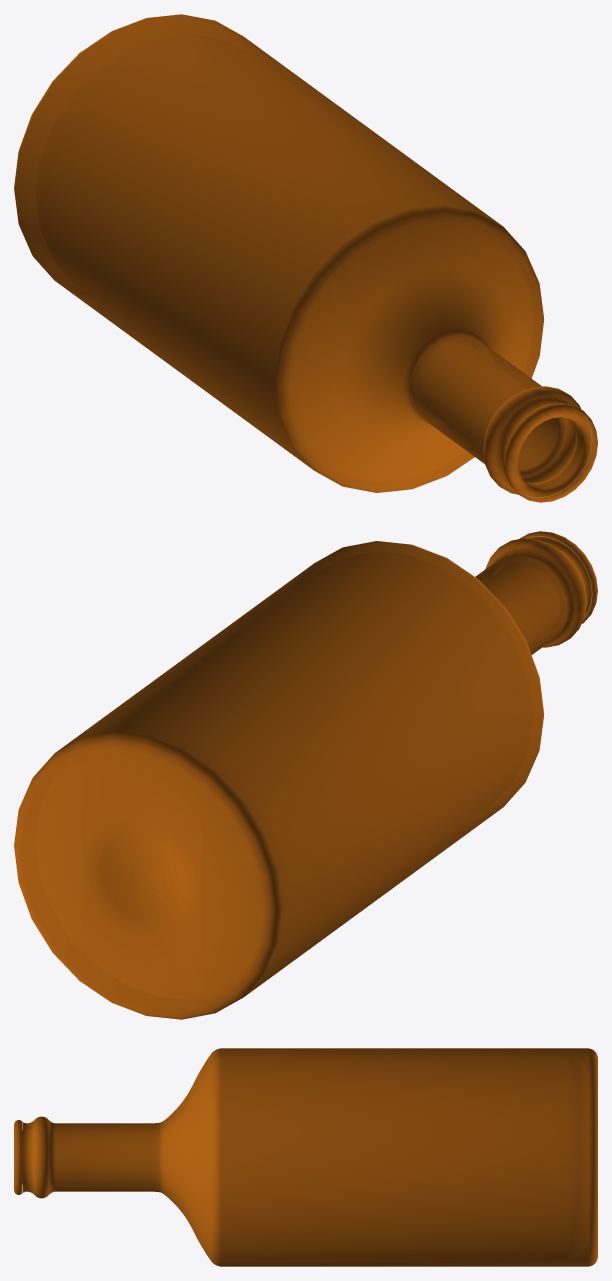
The model's file is model_align.obj.
The picture shows the model from 3 angles, top to bottom: view 1: azimuth 30°, elevation 25°; view 2: azimuth 150°, elevation 25°; view 3: azimuth 270°, elevation 25°; orthographic projection. The views are drawn at different scales.
Parts seen in each view (by area): view 1: mesh1_mesh1-geometry, mesh4_mesh4-geometry, mesh2_mesh2-geometry, mesh3_mesh3-geometry; view 2: mesh1_mesh1-geometry, mesh4_mesh4-geometry, mesh5_mesh5-geometry, mesh2_mesh2-geometry, mesh6_mesh6-geometry, mesh7_mesh7-geometry, mesh8_mesh8-geometry, mesh3_mesh3-geometry; view 3: mesh1_mesh1-geometry, mesh4_mesh4-geometry, mesh3_mesh3-geometry, mesh2_mesh2-geometry.
Boxes of the visible parts, left/top/right/bottom form: mesh1_mesh1-geometry: left=14, top=14, right=544, bottom=492; mesh4_mesh4-geometry: left=325, top=253, right=580, bottom=494; mesh2_mesh2-geometry: left=324, top=252, right=597, bottom=502; mesh3_mesh3-geometry: left=497, top=398, right=570, bottom=485; mesh1_mesh1-geometry: left=14, top=541, right=544, bottom=1019; mesh4_mesh4-geometry: left=475, top=538, right=586, bottom=654; mesh5_mesh5-geometry: left=102, top=834, right=185, bottom=923; mesh2_mesh2-geometry: left=102, top=531, right=597, bottom=924; mesh6_mesh6-geometry: left=112, top=842, right=178, bottom=913; mesh7_mesh7-geometry: left=121, top=850, right=171, bottom=903; mesh8_mesh8-geometry: left=131, top=858, right=164, bottom=893; mesh3_mesh3-geometry: left=528, top=536, right=591, bottom=615; mesh1_mesh1-geometry: left=197, top=1048, right=597, bottom=1266; mesh4_mesh4-geometry: left=32, top=1076, right=197, bottom=1238; mesh3_mesh3-geometry: left=22, top=1122, right=32, bottom=1192; mesh2_mesh2-geometry: left=14, top=1120, right=22, bottom=1194.
Size of the model in its own units: 0.0917 by 0.0917 by 0.2446.
